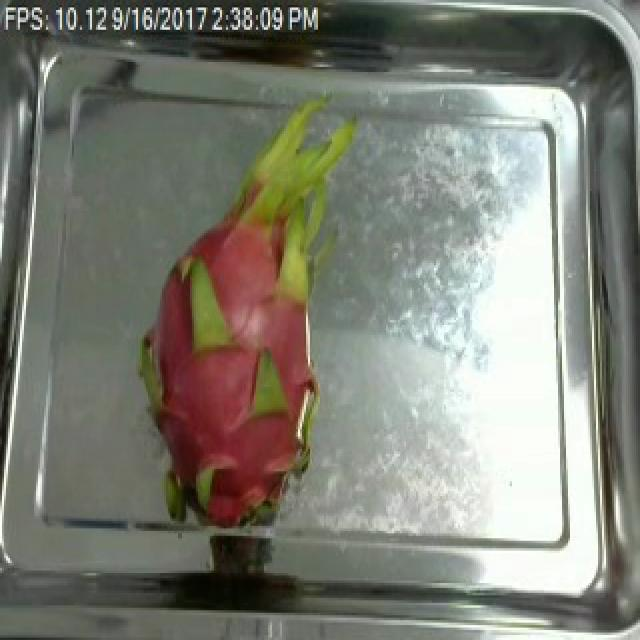fruit: (110, 129, 350, 548)
